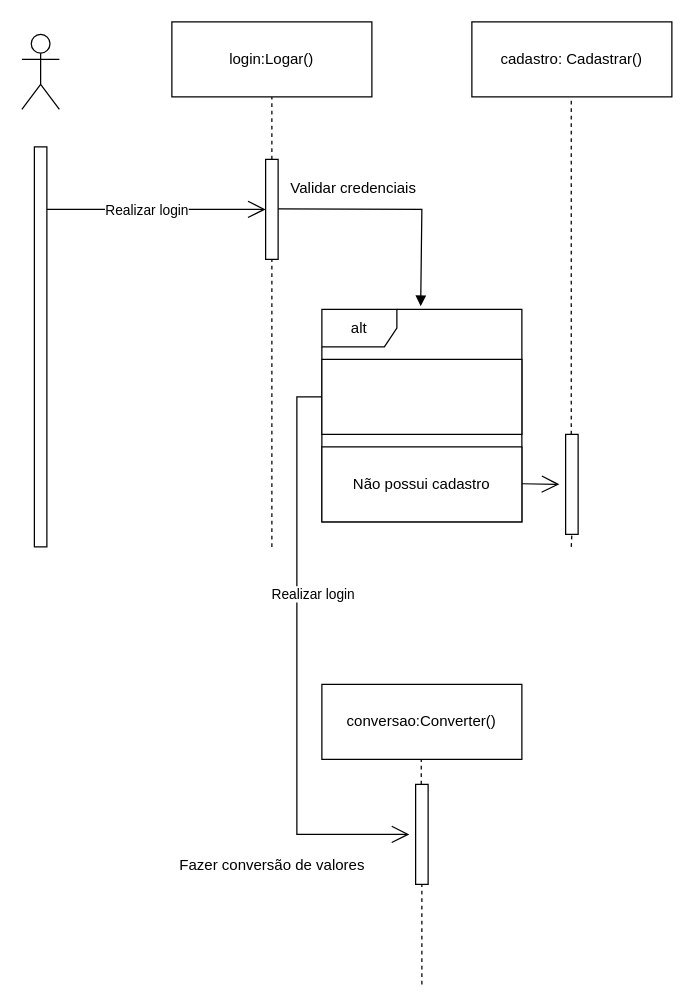
This 694x1008 diagram has some shape labels left out. The shapes that lost their labels are listed below. From the top down, each one's centre as x and y in pixels, then its label:
At pixel 40 71: "Actor".
At pixel 421 396: "possui cadastro".
